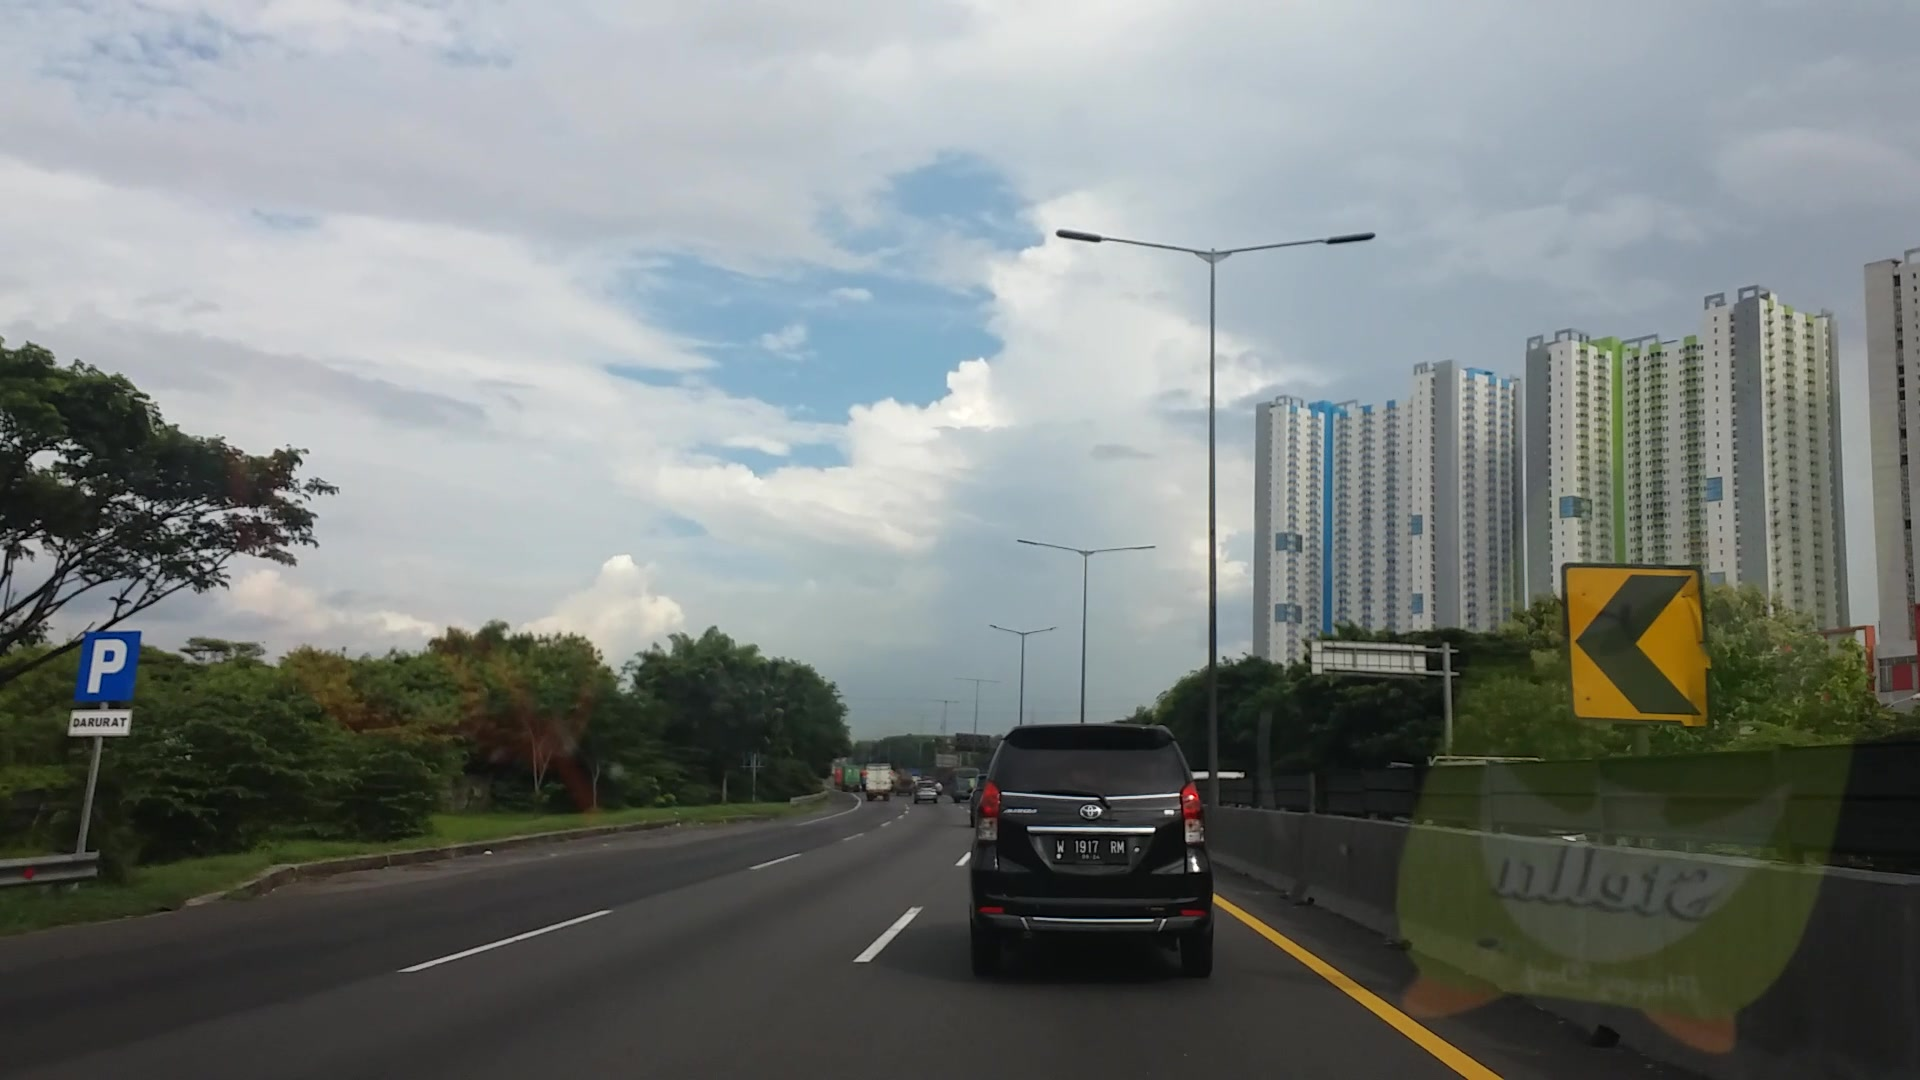plate_positive: (1054, 835, 1127, 865)
